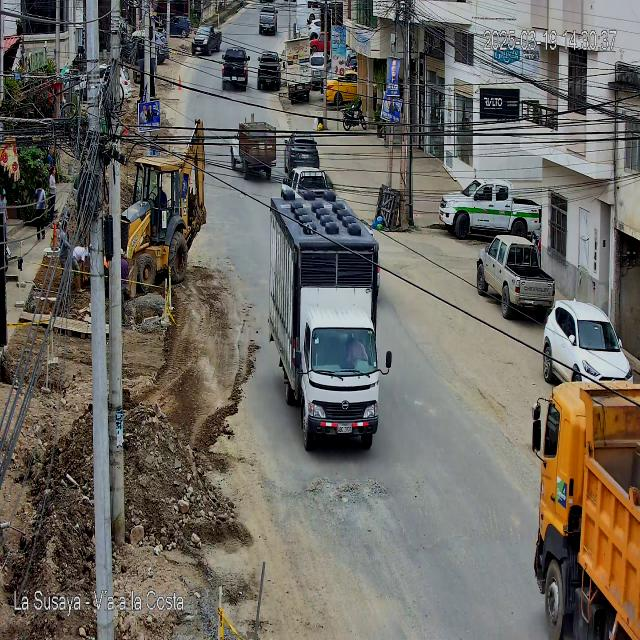CMT: (444, 180, 541, 244)
TRUCK: (269, 198, 392, 452), (534, 382, 640, 640)
